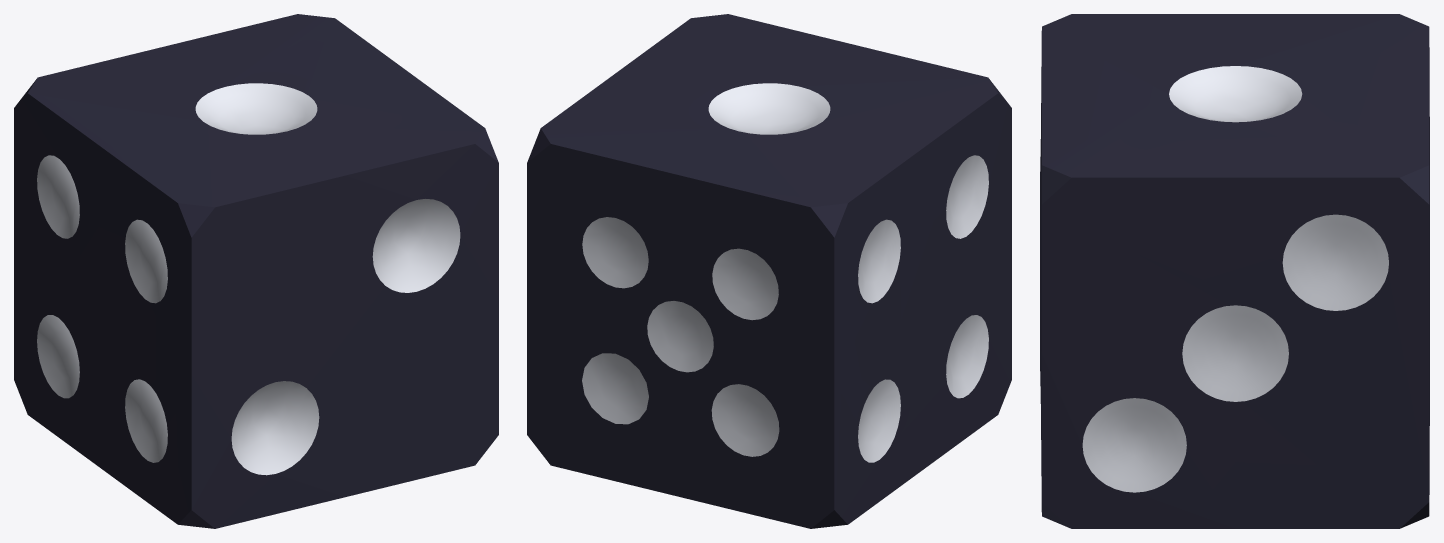
The model's file is Dice_Black.fbx.
The picture shows the model from 3 angles, left to right: view 1: azimuth 30°, elevation 25°; view 2: azimuth 150°, elevation 25°; view 3: azimuth 270°, elevation 25°; orthographic projection. The views are drawn at different scales.
Parts seen in each view (by area): view 1: Dice_Black; view 2: Dice_Black; view 3: Dice_Black.
Part boxes in pixels (bbox=[...]): Dice_Black: bbox=[14, 14, 498, 528]; Dice_Black: bbox=[527, 14, 1011, 528]; Dice_Black: bbox=[1040, 14, 1429, 528].
Size of the model in its own units: 110 by 111 by 111.
